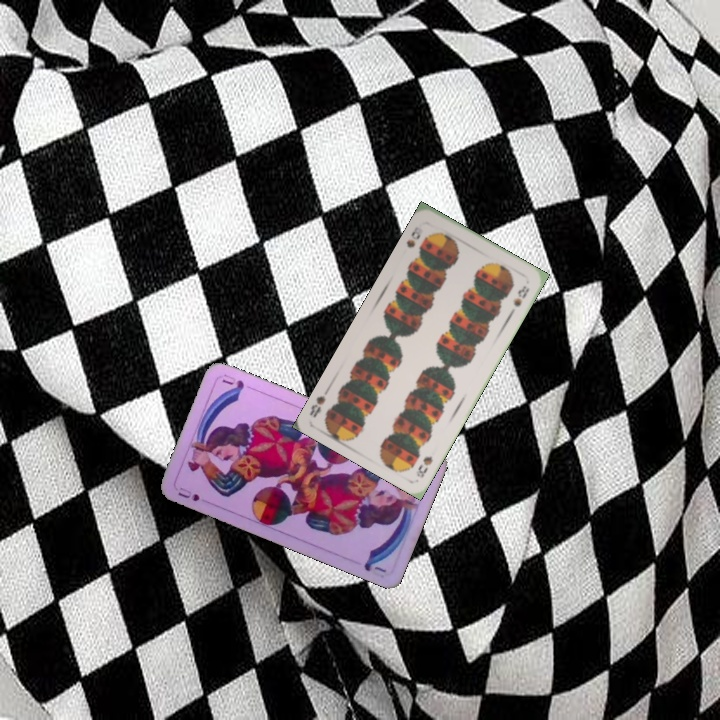S8: (412, 452, 435, 480), (402, 227, 423, 250)
SU: (174, 483, 202, 504)
